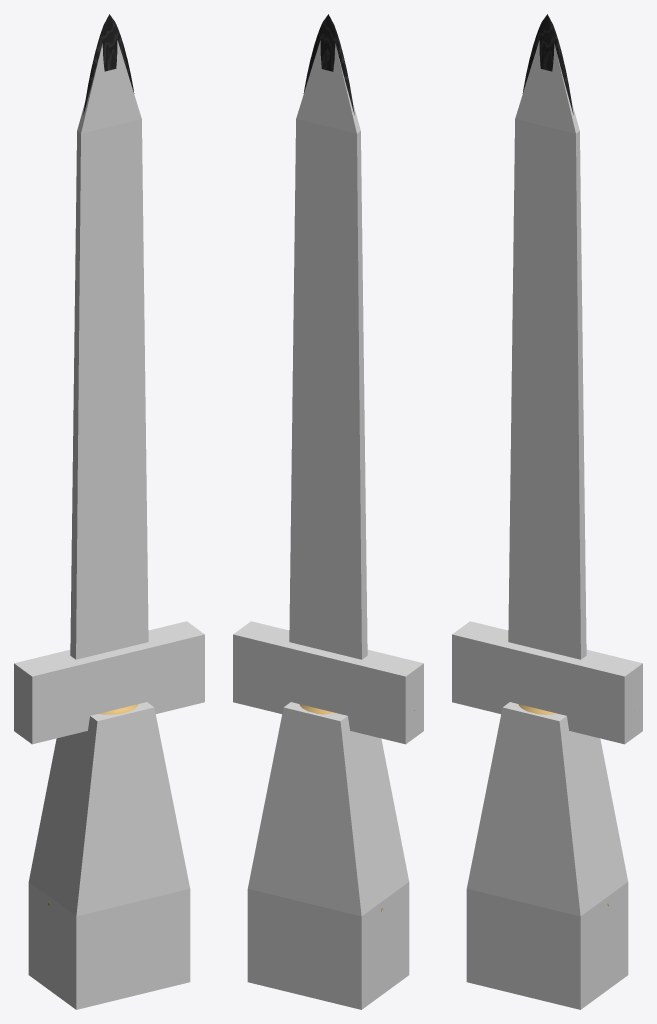
The model's file is Viking.fbx.
The picture shows the model from 3 angles, left to right: view 1: azimuth 30°, elevation 25°; view 2: azimuth 150°, elevation 25°; view 3: azimuth 330°, elevation 25°; orthographic projection.
Visible parts, largest first — view 1: Viking_Blade_COL, Viking_Grip_COL, Viking_Guard_COL, Viking_LOD0; view 2: Viking_Blade_COL, Viking_Grip_COL, Viking_Guard_COL, Viking_LOD0; view 3: Viking_Blade_COL, Viking_Grip_COL, Viking_Guard_COL, Viking_LOD0.
Boxes of the visible parts, box(x1,y1,x2,y2) form: Viking_Blade_COL: box(70, 40, 148, 659); Viking_Grip_COL: box(28, 702, 190, 1009); Viking_Guard_COL: box(14, 621, 204, 744); Viking_LOD0: box(48, 14, 138, 905); Viking_Blade_COL: box(289, 40, 367, 659); Viking_Grip_COL: box(247, 702, 409, 1009); Viking_Guard_COL: box(233, 621, 423, 744); Viking_LOD0: box(299, 14, 414, 911); Viking_Blade_COL: box(508, 40, 586, 659); Viking_Grip_COL: box(466, 702, 628, 1009); Viking_Guard_COL: box(452, 621, 642, 744); Viking_LOD0: box(518, 14, 608, 906).
Size of what is drawn, in the model's own units: 0.1761 by 0.939 by 0.084.
Materials: 2 (1 with a texture image).
